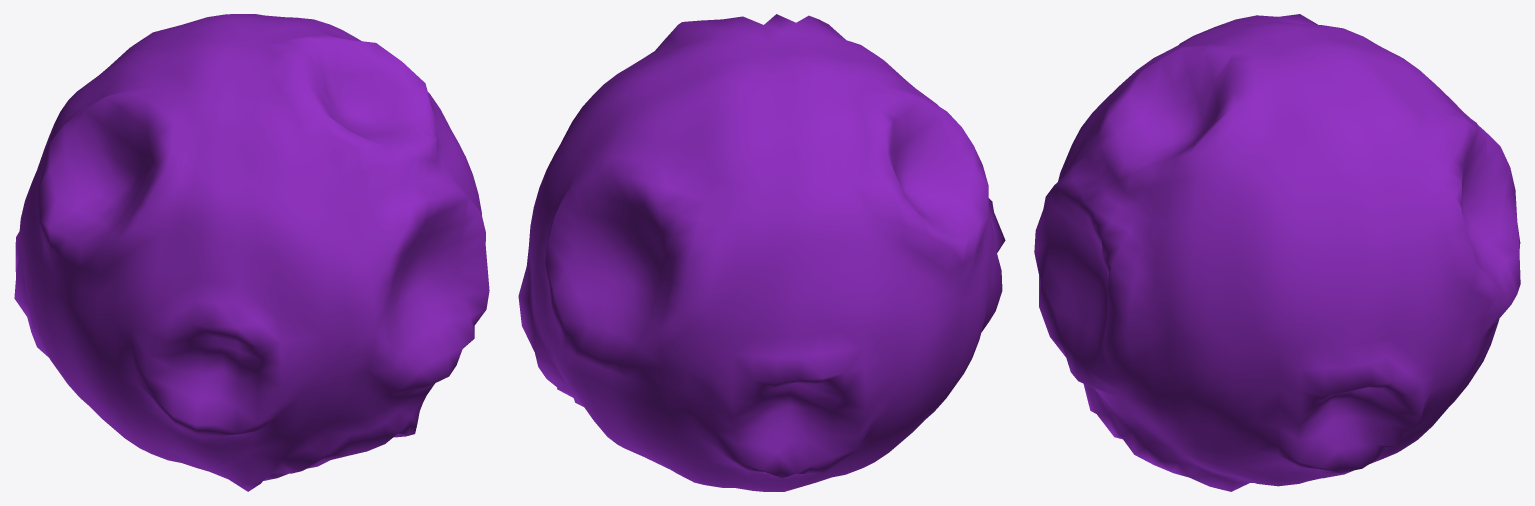
File: planeta_morado.obj
3 views of the same model, side by side, from view 1: azimuth 30°, elevation 25°; view 2: azimuth 150°, elevation 25°; view 3: azimuth 270°, elevation 25° (orthographic).
Visible parts, largest first — view 1: planeta_morado; view 2: planeta_morado; view 3: planeta_morado.
Boxes of the visible parts, x1=… form: planeta_morado: x1=14, y1=14, x2=489, y2=491; planeta_morado: x1=518, y1=14, x2=1005, y2=491; planeta_morado: x1=1034, y1=14, x2=1520, y2=491.
Size of the model in its own units: 1.76 by 1.75 by 1.81.
